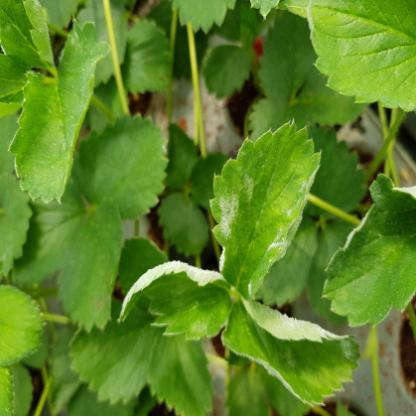Strawberry_Powdery_Mildew_Leaf: (209, 119, 322, 300), (222, 293, 363, 406), (321, 172, 415, 330), (117, 259, 237, 341)
